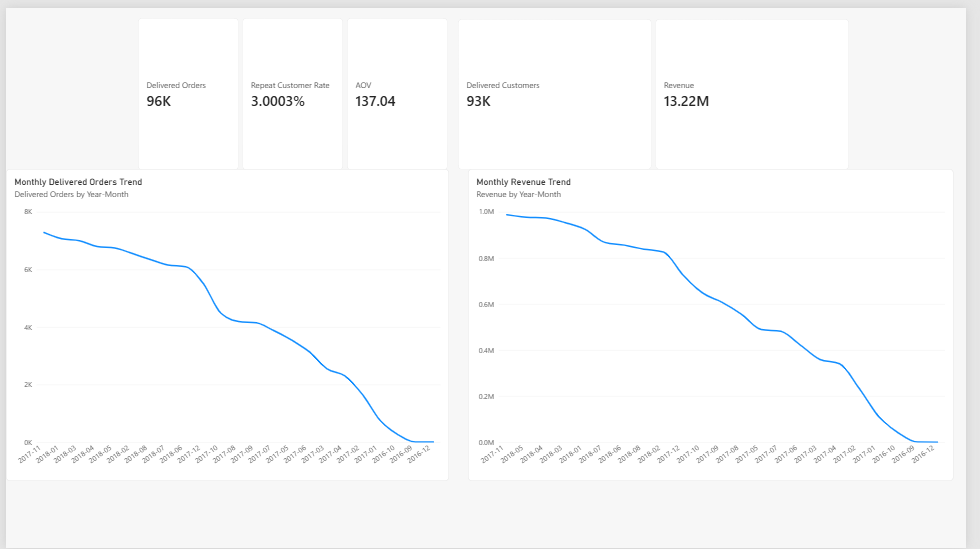

The dashboard page shown, as its layout file describes it:
{"tool":"powerbi","page":{"name":"Executive Overview","canvas":[1920,1080],"ordinal":0},"visuals":[{"type":"cardVisual","fields":{"Data":["FactOrders.Delivered Orders","DimCustomers.Repeat Customer Rate","FactOrders.AOV"]},"box":[264.3,20,621.4,304.3],"z":3},{"type":"cardVisual","fields":{"Data":["DimCustomers.Delivered Customers","FactOrderItems.Revenue"]},"box":[904.3,21.4,782.9,301.4],"z":5},{"type":"lineChart","title":"Monthly Revenue Trend","fields":{"Category":["DimDate.Year-Month"],"Y":["FactOrderItems.Revenue"]},"box":[924.3,322.9,971.4,624.3],"z":6},{"type":"lineChart","title":"Monthly Delivered Orders Trend","fields":{"Category":["DimDate.Year-Month"],"Y":["FactOrders.Delivered Orders"]},"box":[0,322.9,885.7,624.3],"z":7}]}

Visuals, with their boxes in screenshot pixels (x1, y1, x2, y2), scaled from the page's 1920x1080 canvas onto the 980x549 screenshot:
cardVisual - FactOrders.Delivered Orders x DimCustomers.Repeat Customer Rate: <region>135, 10, 452, 165</region>
cardVisual - DimCustomers.Delivered Customers x FactOrderItems.Revenue: <region>462, 11, 861, 164</region>
"Monthly Revenue Trend" lineChart: <region>472, 164, 968, 481</region>
"Monthly Delivered Orders Trend" lineChart: <region>0, 164, 452, 481</region>
